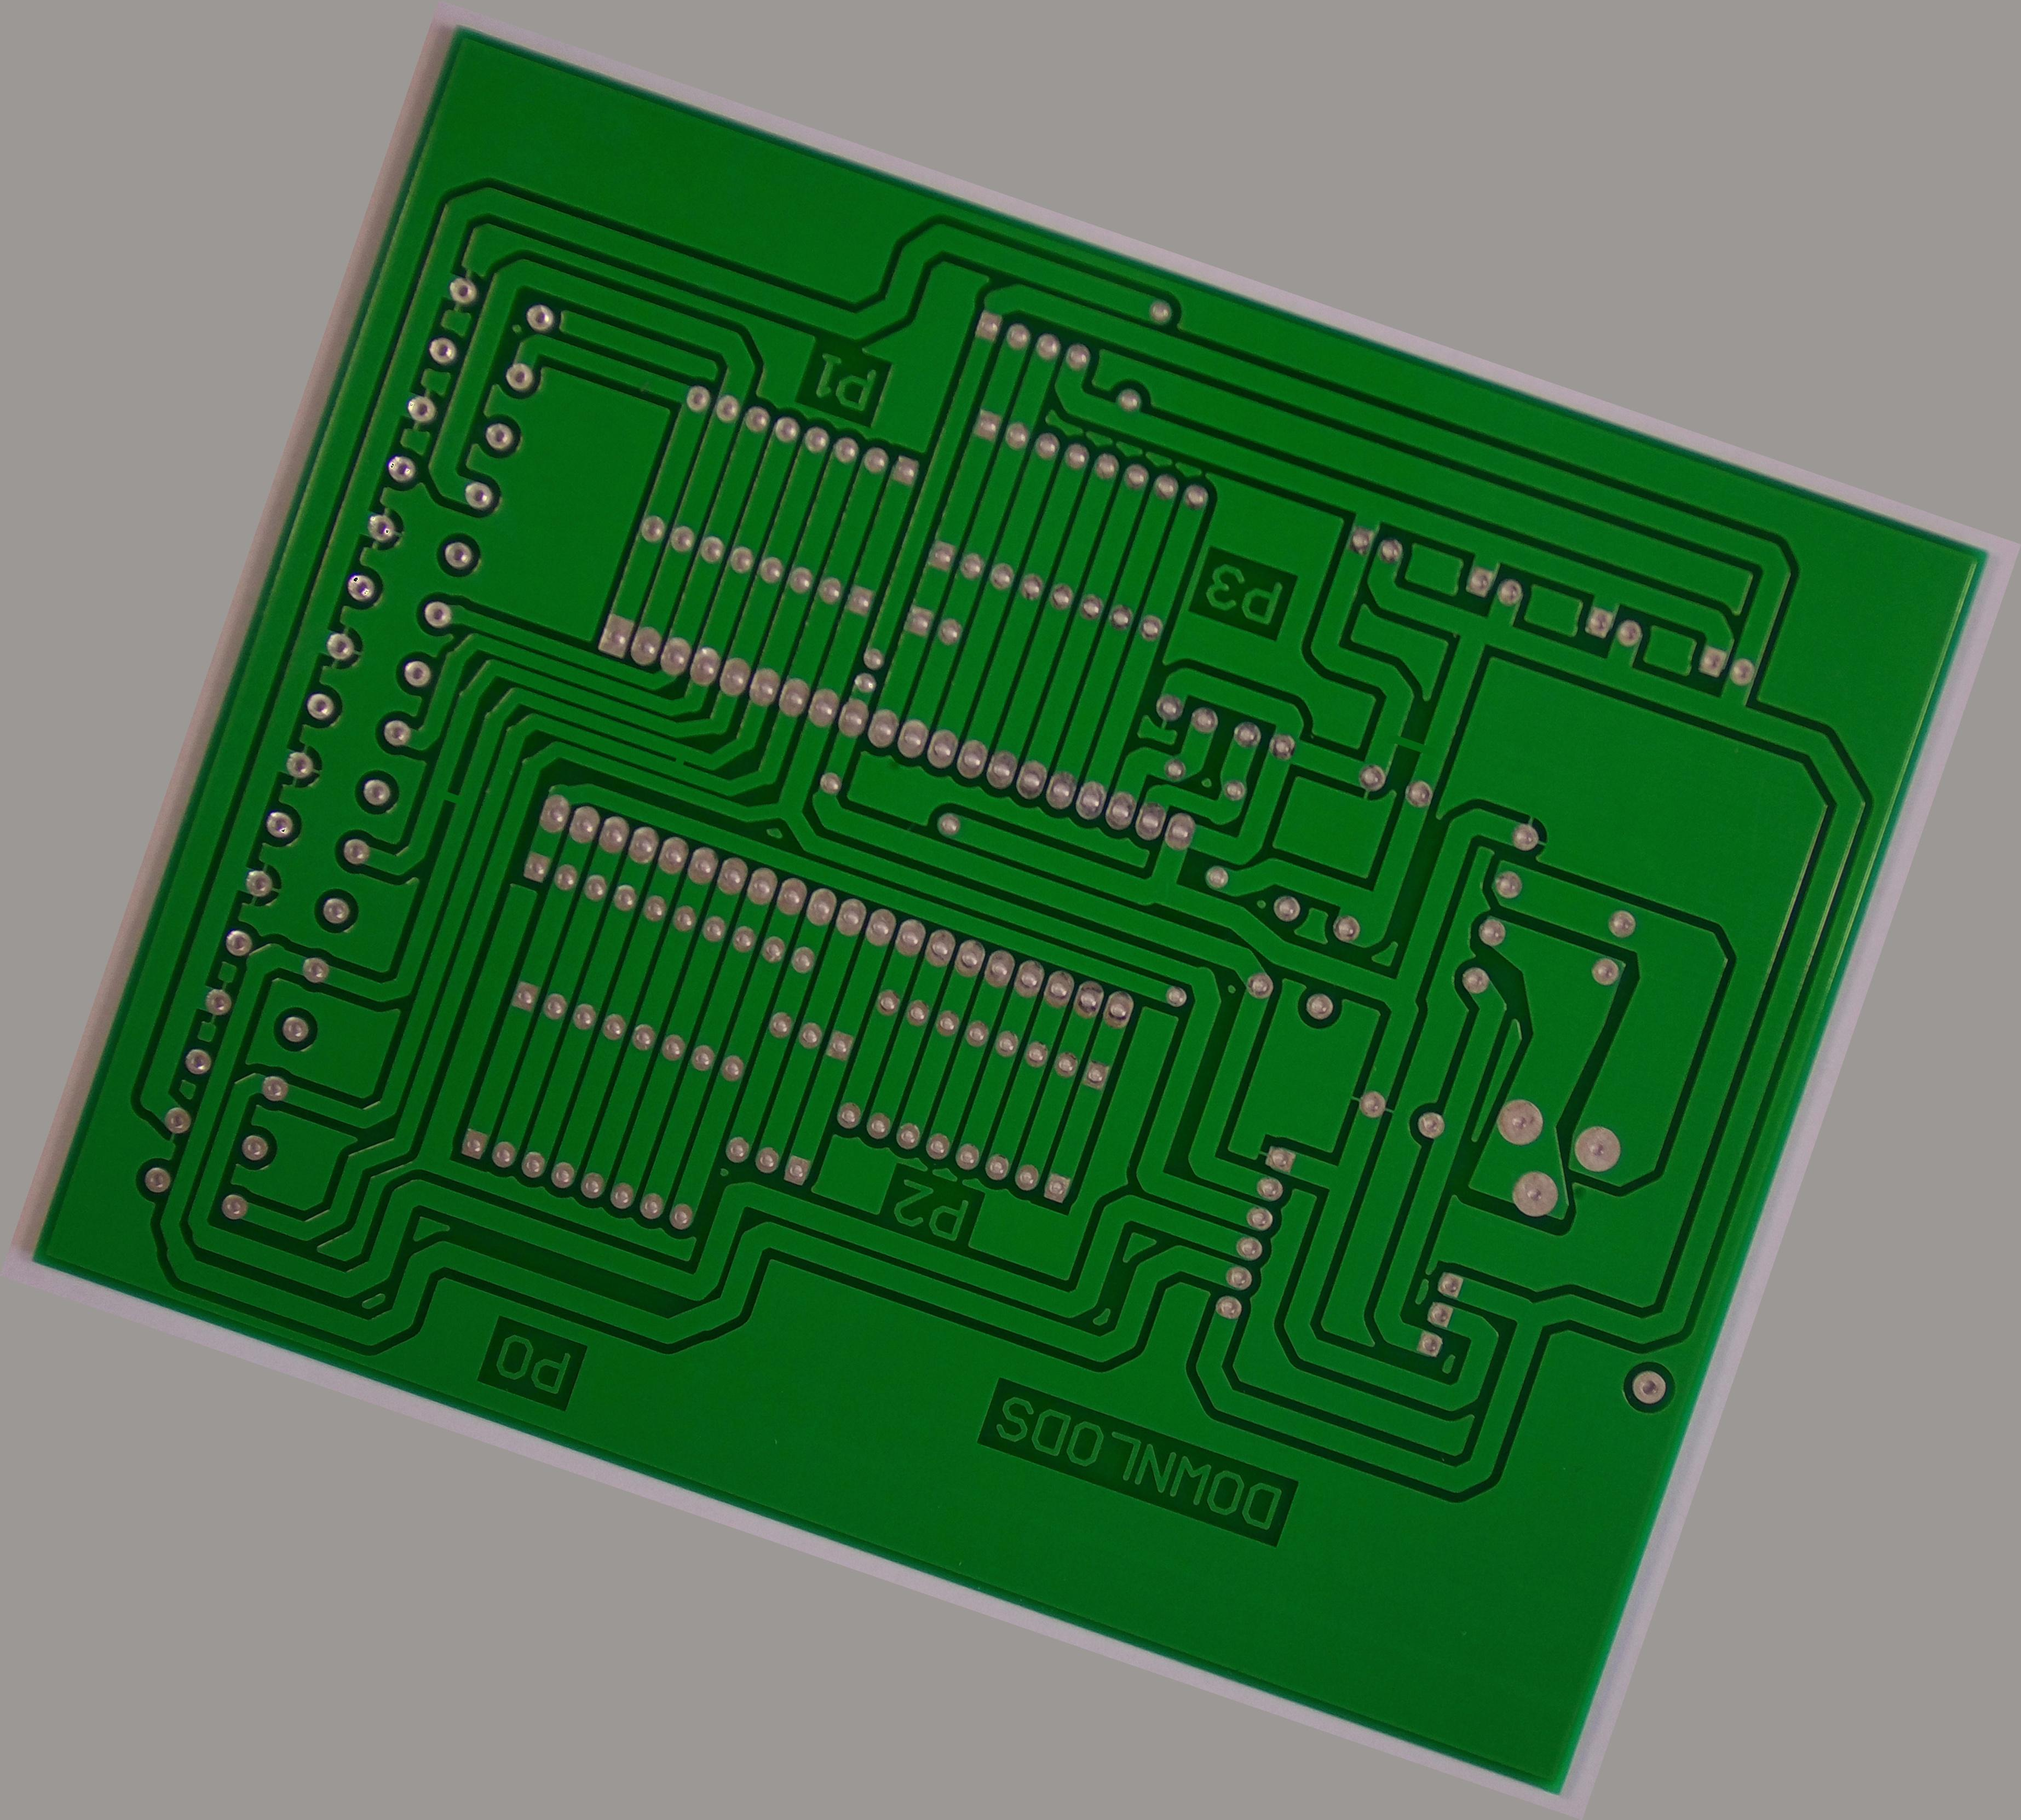short: (1364, 703, 1459, 787), (415, 764, 487, 833), (652, 733, 706, 787)
